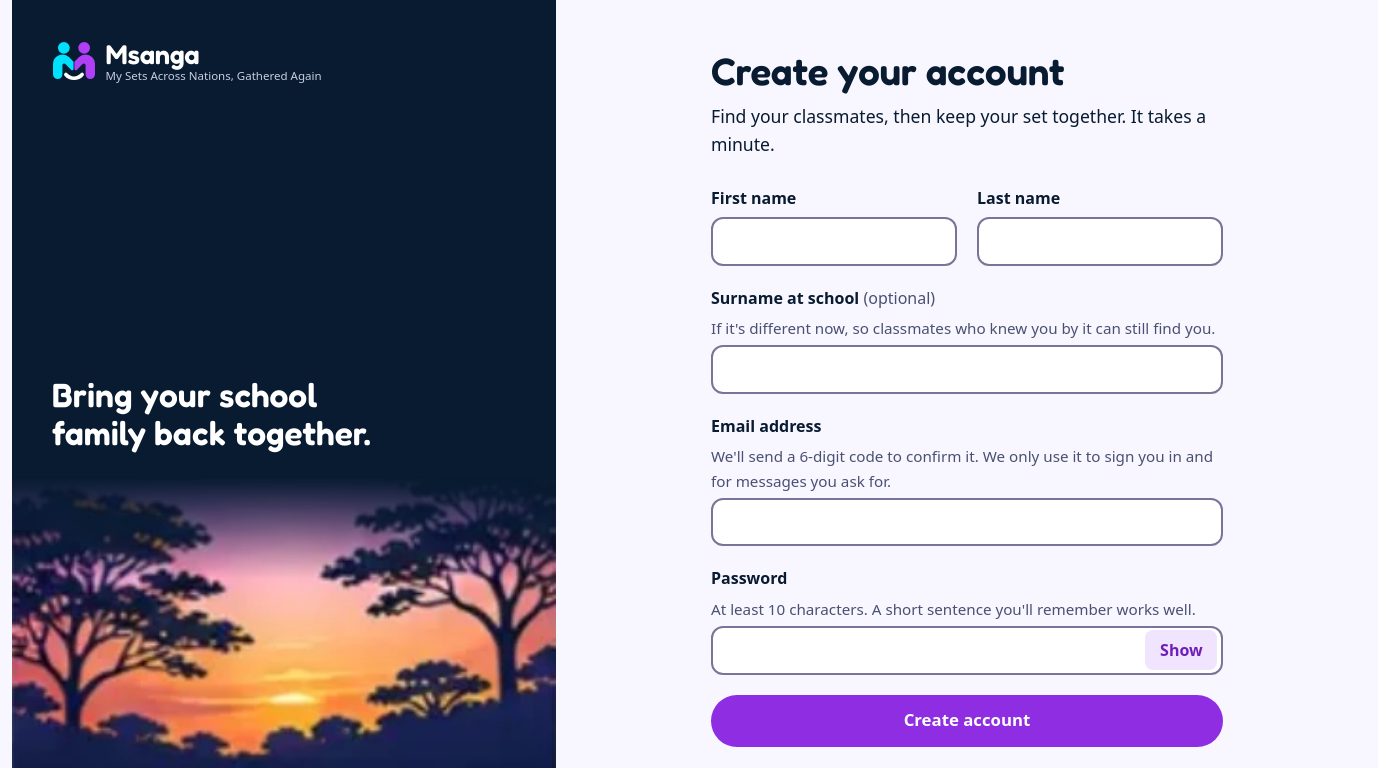
Test: Create account and the 6-digit code (against the pretend API) › answers the same for an email that already has an account (no way to find out who is on Msanga)
Expected: the heading "Create your account" is shown, [711, 48, 1064, 94]
Type "Bola" into the field labelled "First name". click: {"x": 834, "y": 241}
box: [711, 217, 957, 266]
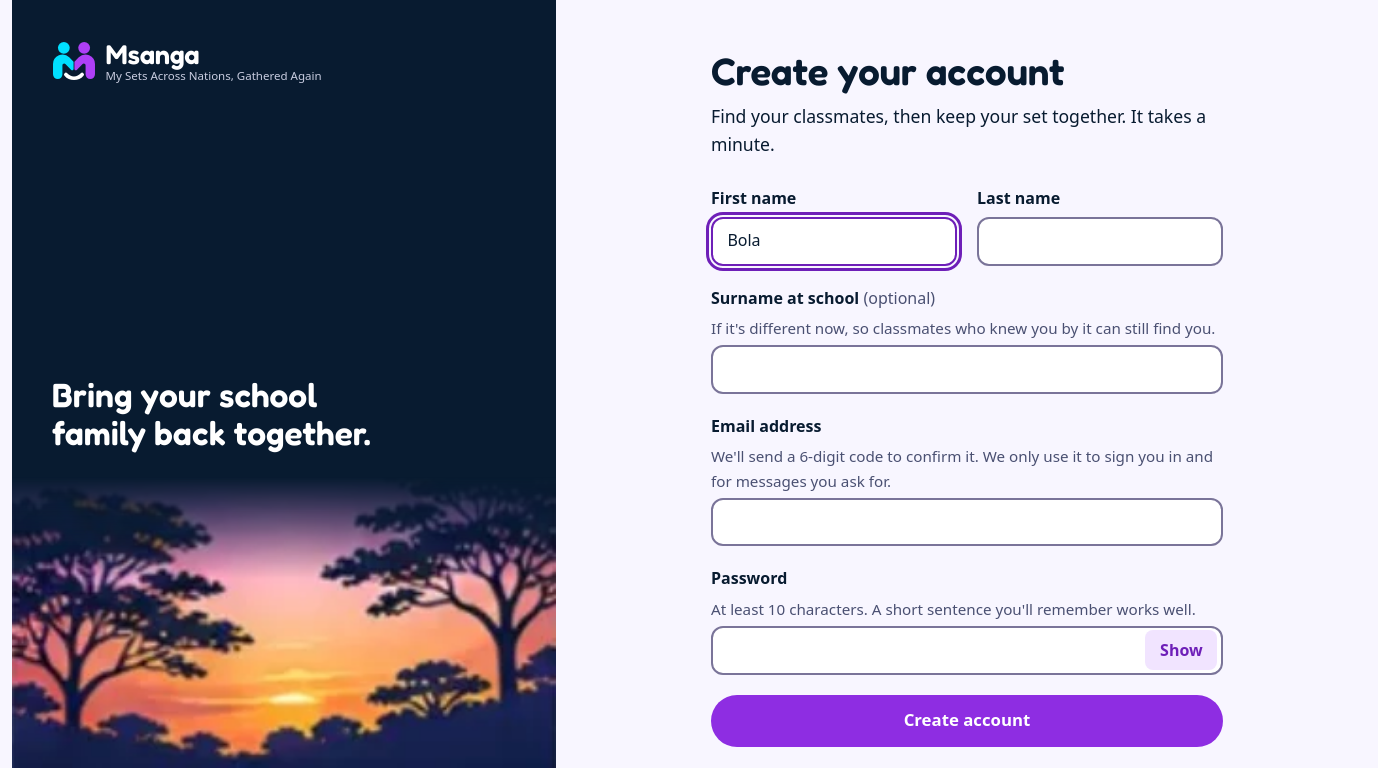
Type "Eze" into the field labelled "Last name". click: {"x": 1100, "y": 241}
box: [977, 217, 1223, 266]
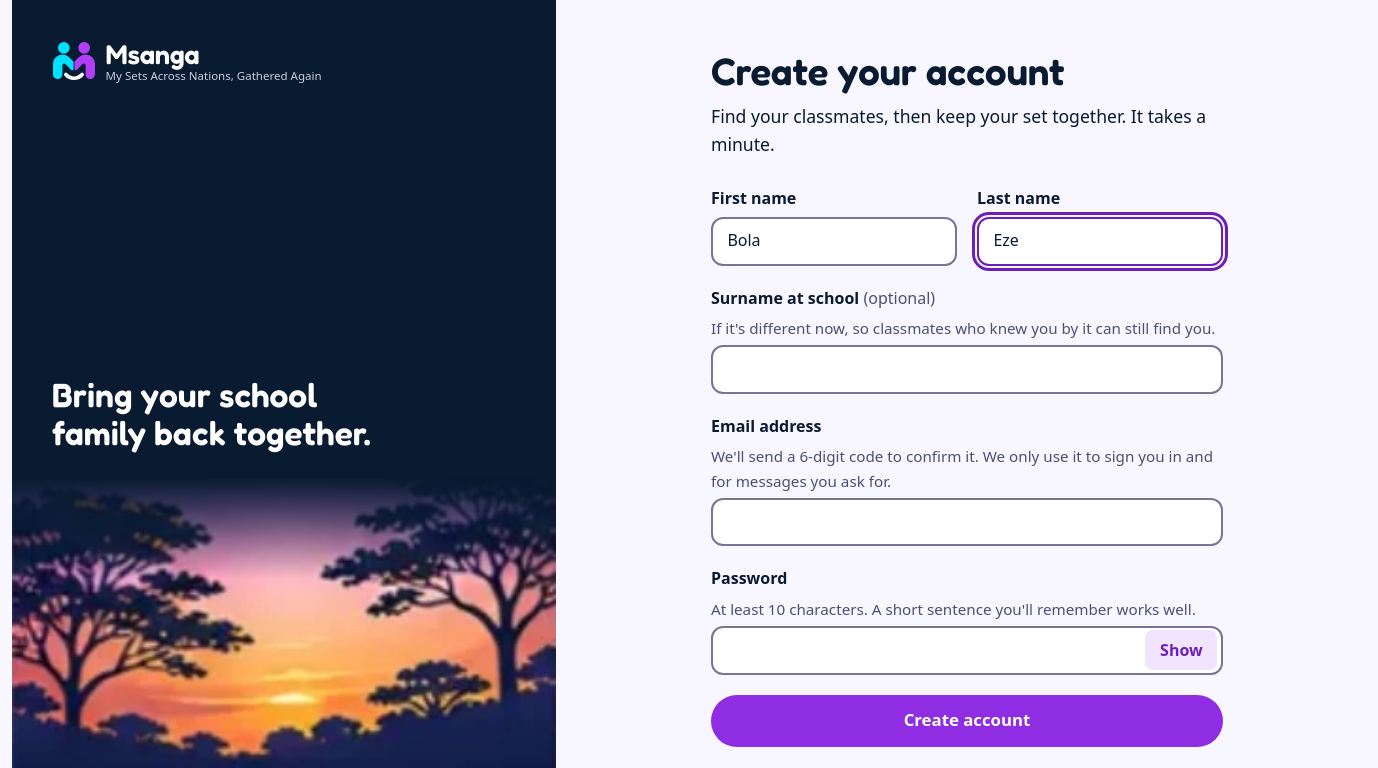
Type "ada@example.com" into the field labelled "Email address". click: {"x": 967, "y": 522}
box: [711, 498, 1223, 546]
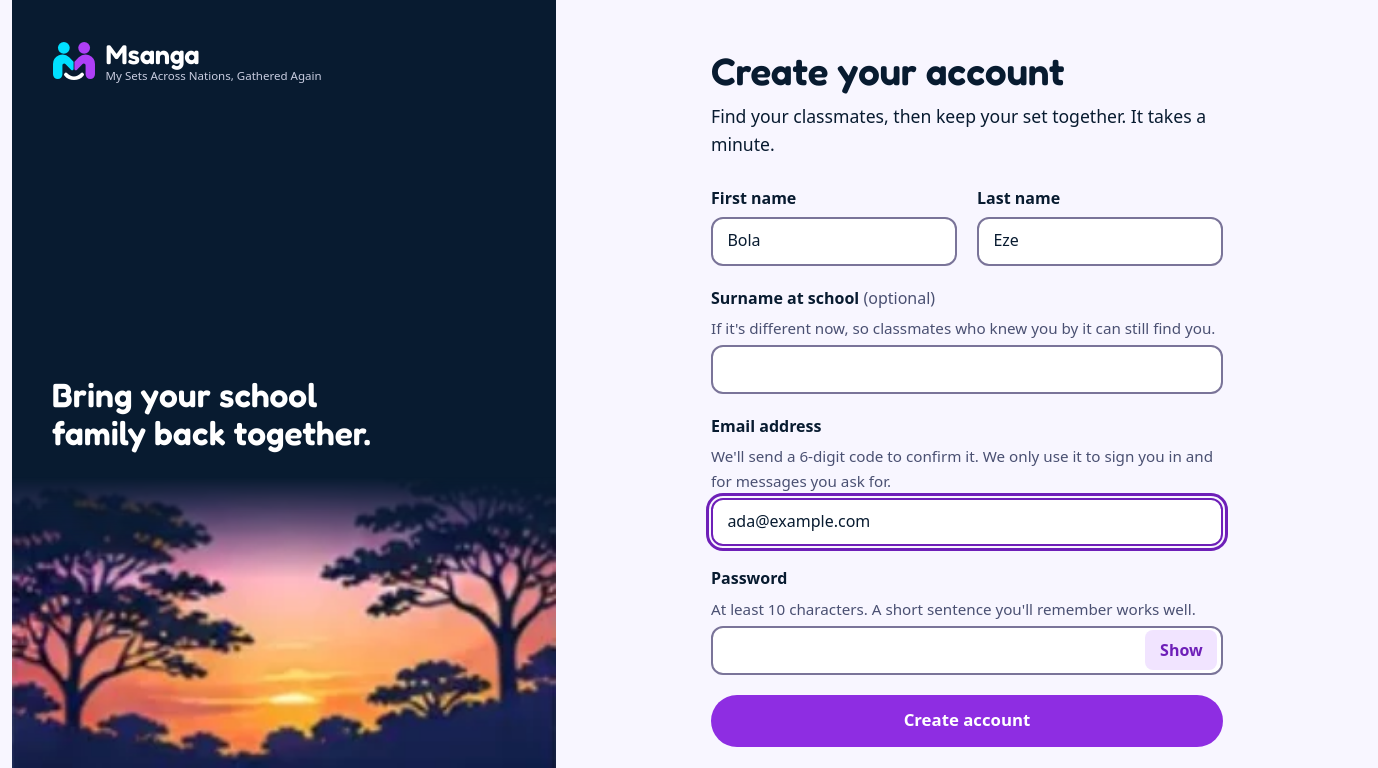
Type "my old school bell" into the password field labelled "Password". click: {"x": 967, "y": 650}
box: [711, 626, 1223, 675]
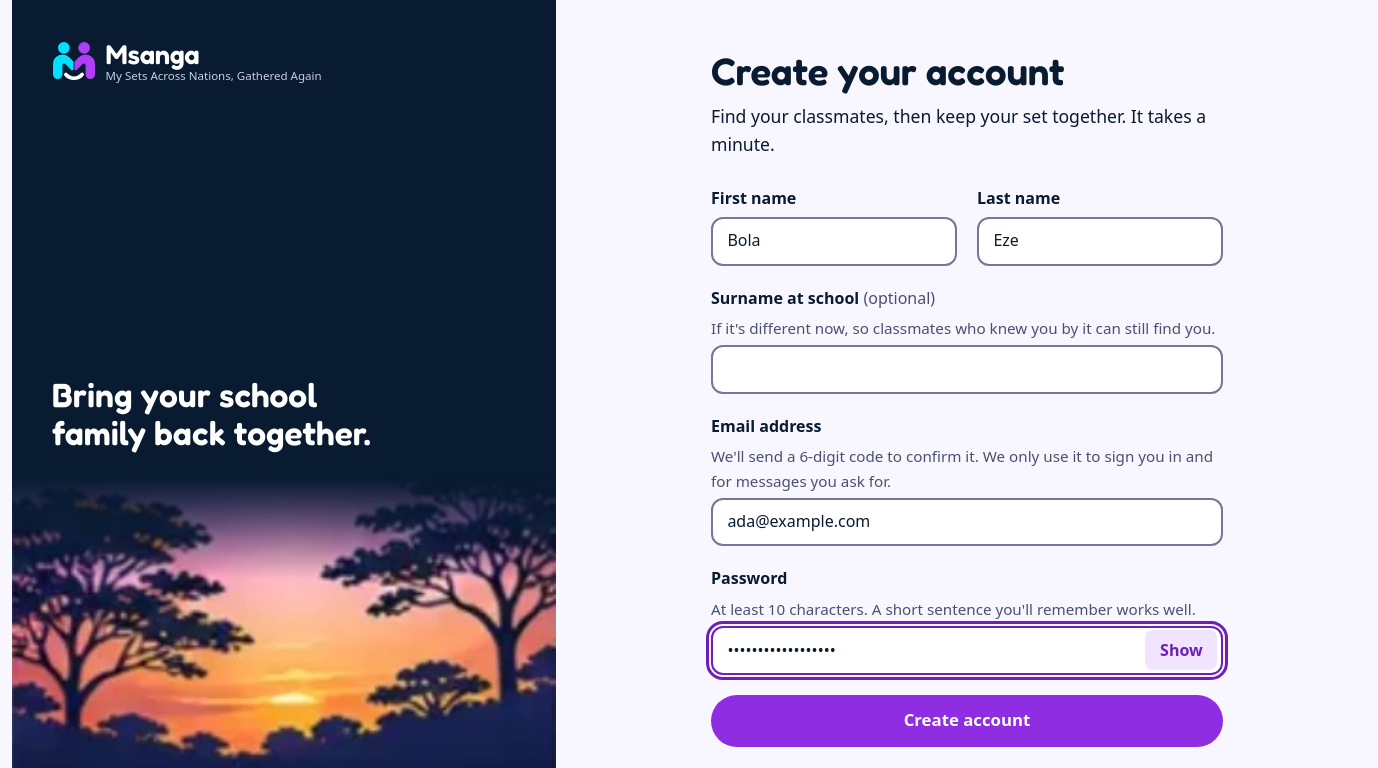
Click the button "Create account". click: {"x": 967, "y": 721}
box: [711, 695, 1223, 747]
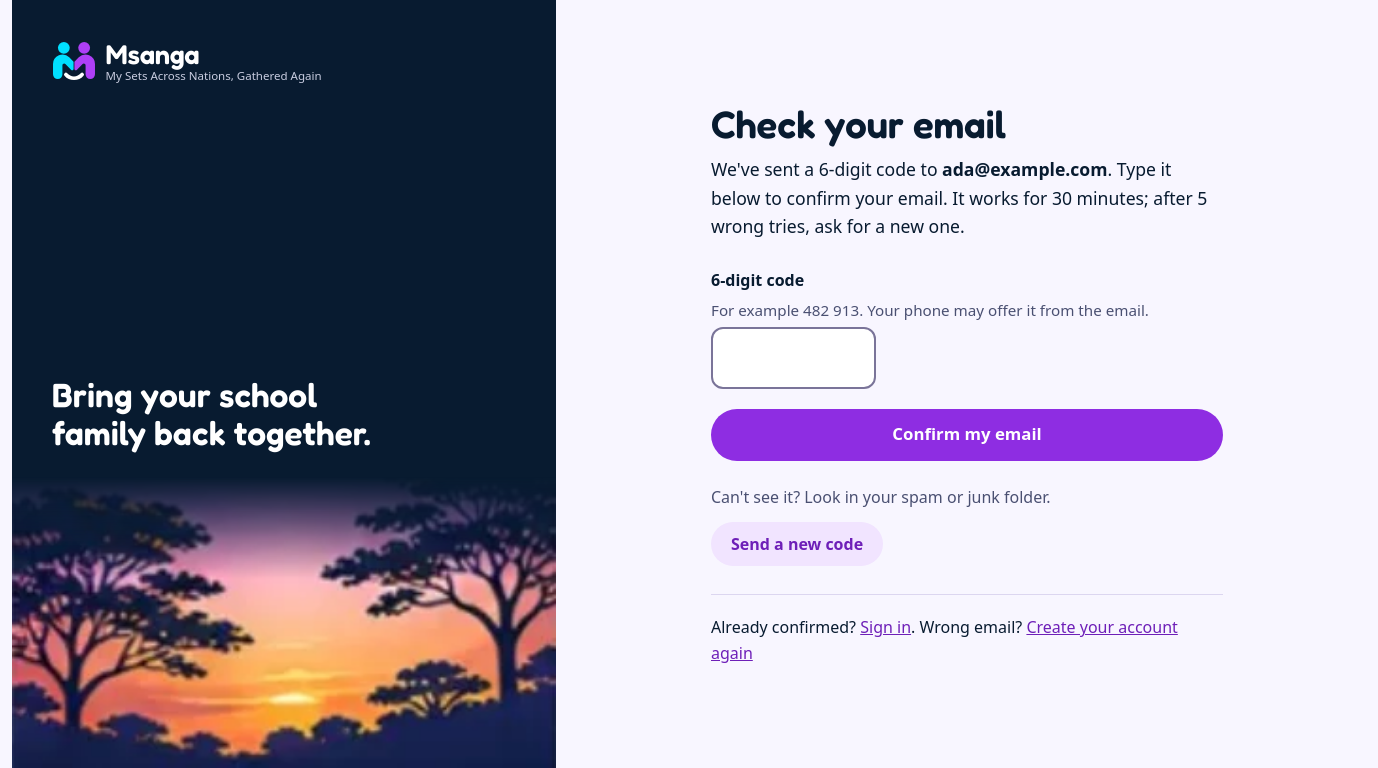
Expected: the heading "Check your email" is shown, [711, 101, 1006, 147]
